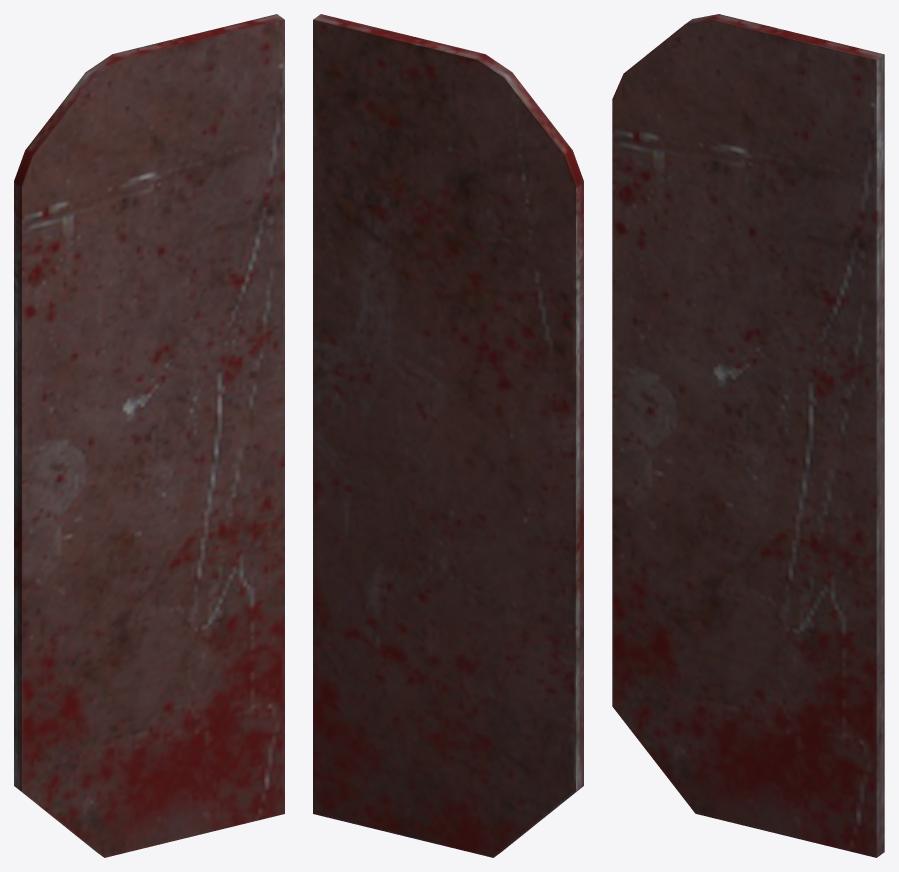
File: ToiletBlind.FBX
3 views of the same model, side by side, from view 1: azimuth 30°, elevation 25°; view 2: azimuth 150°, elevation 25°; view 3: azimuth 330°, elevation 25° (orthographic).
Parts seen in each view (by area): view 1: ToiletBlind; view 2: ToiletBlind; view 3: ToiletBlind.
Part boxes in pixels (box(x1,y1,x2,y2)): ToiletBlind: box(14, 14, 284, 857); ToiletBlind: box(313, 14, 583, 857); ToiletBlind: box(612, 14, 884, 857).
Size of the model in its own units: 45.68 by 132 by 2.35.
